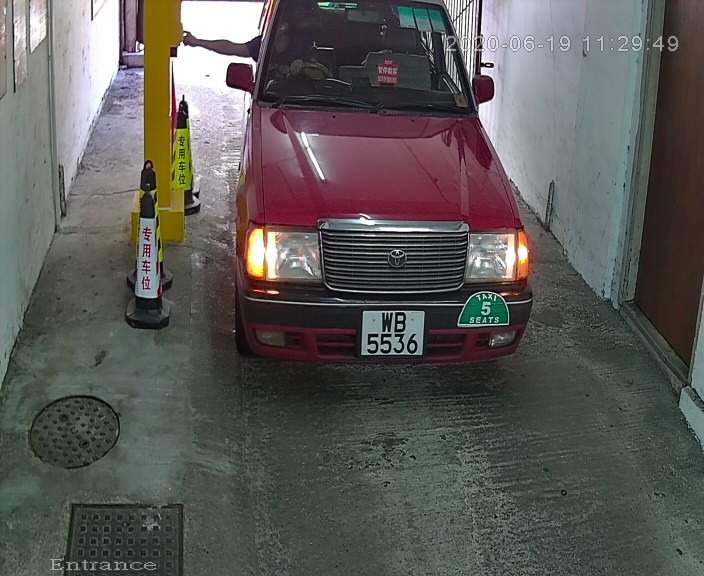taxi: (215, 2, 544, 389)
taxi_mark: (454, 289, 507, 332)
